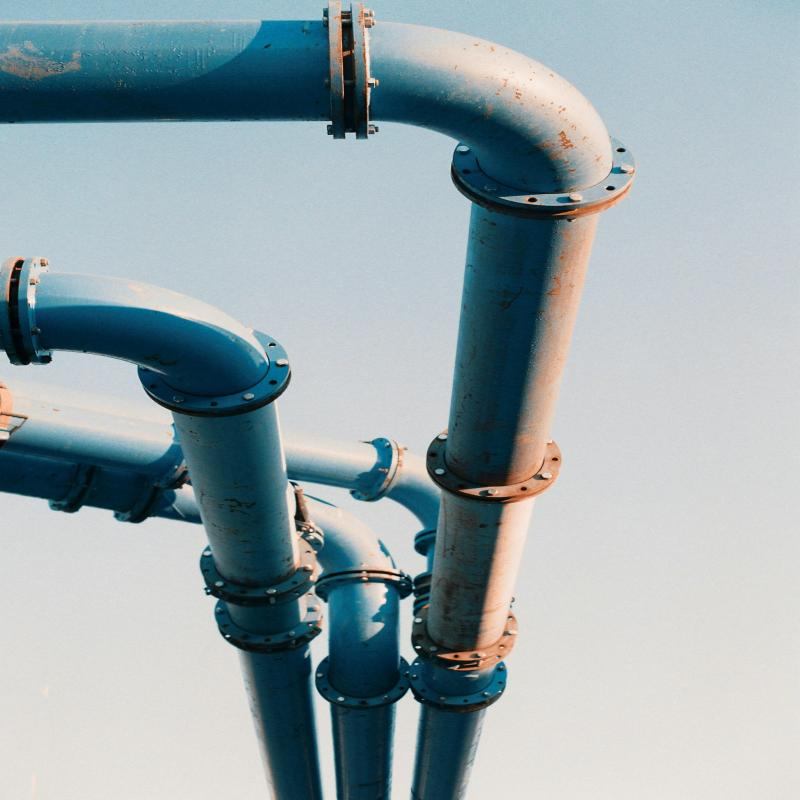Healthy: (15, 2, 800, 800)
